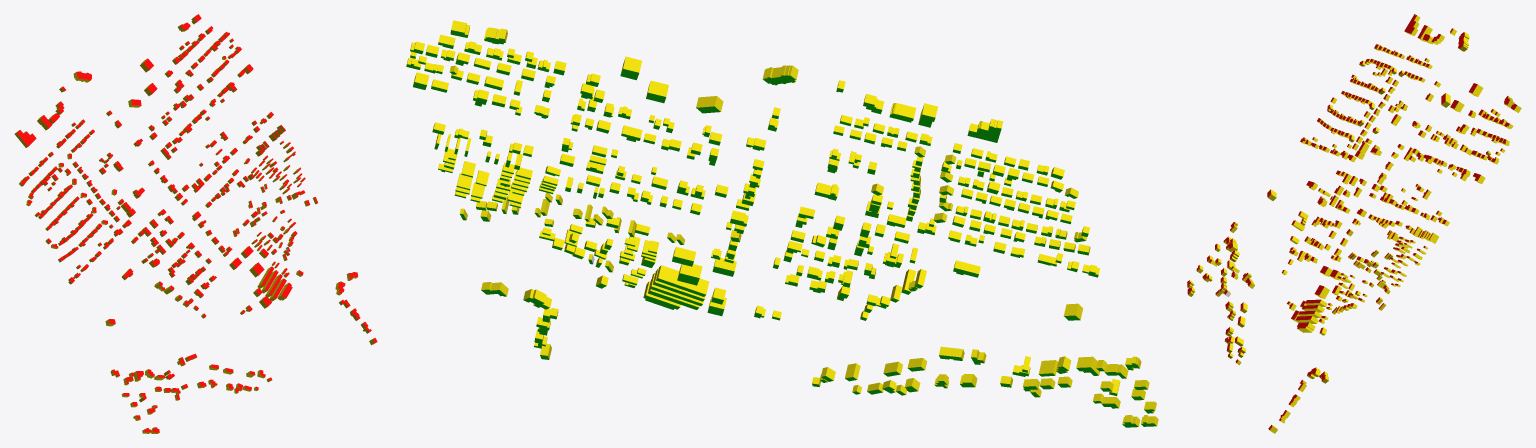
3 views of the same model, side by side, from view 1: azimuth 30°, elevation 25°; view 2: azimuth 150°, elevation 25°; view 3: azimuth 270°, elevation 25° (orthographic). The views are drawn at different scales.
Visible parts, largest first — view 1: mesh; view 2: mesh; view 3: mesh.
Boxes of the visible parts, box(x1,y1,x2,y2) form: mesh: box(14, 14, 377, 433); mesh: box(406, 20, 1158, 427); mesh: box(1187, 14, 1521, 433).
Bounding box in the file's own units: 1047 × 846 × 874.
